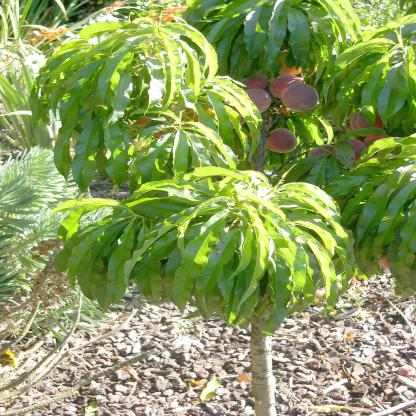peach leaf: (172, 219, 217, 317), (370, 183, 413, 261), (64, 223, 114, 289), (304, 235, 341, 316), (69, 119, 102, 195), (259, 1, 294, 72), (243, 4, 272, 60), (53, 123, 78, 183), (361, 63, 384, 127), (107, 119, 127, 192), (287, 10, 309, 69)
